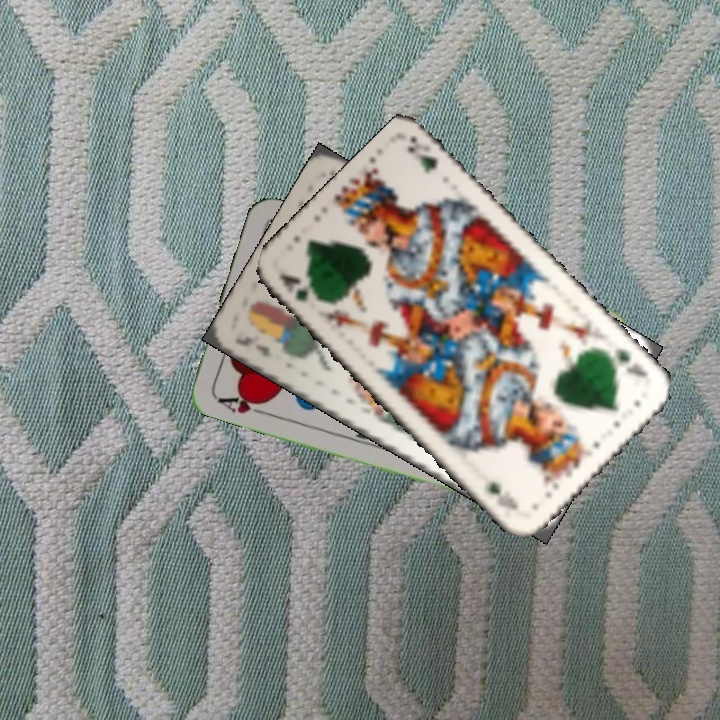EK: (230, 332, 274, 361)
GK: (274, 267, 325, 306), (609, 344, 654, 387)
HA: (214, 389, 271, 418)
